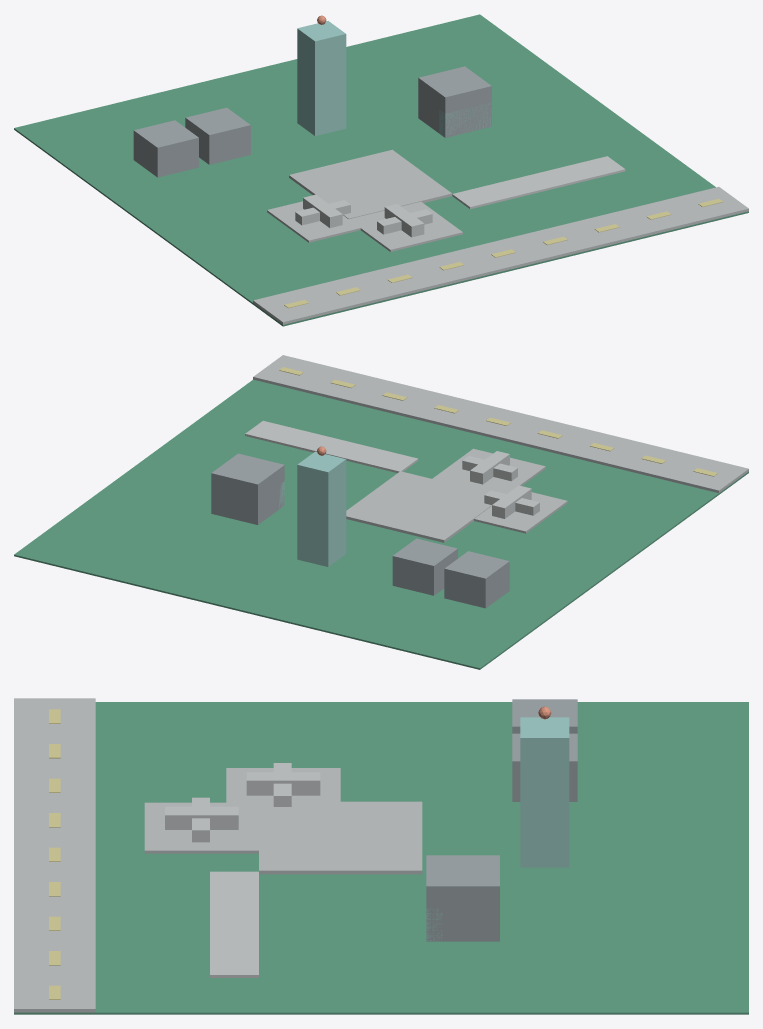
The model's file is stage_08.glb.
The picture shows the model from 3 angles, top to bottom: view 1: azimuth 30°, elevation 25°; view 2: azimuth 150°, elevation 25°; view 3: azimuth 270°, elevation 25°; orthographic projection. The views are drawn at different scales.
Parts seen in each view (by area): view 1: geometry_0; view 2: geometry_0; view 3: geometry_0.
Part boxes in pixels (box(x1,y1,x2,y2)): geometry_0: box(14, 14, 748, 326); geometry_0: box(14, 355, 748, 669); geometry_0: box(14, 698, 748, 1014).
Size of the model in its own units: 9 by 2.06 by 9.
